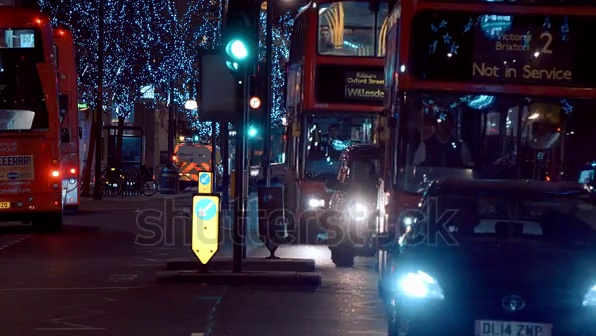licenseplate: (480, 319, 556, 336)
